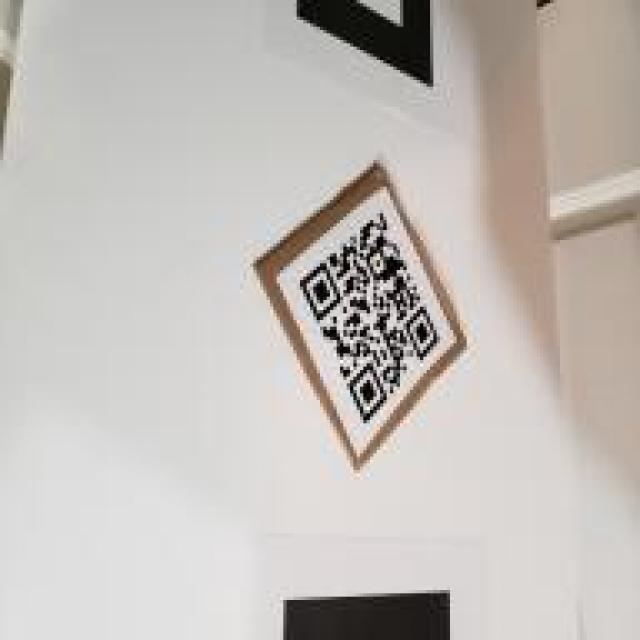qr_code: (299, 211, 441, 424)
